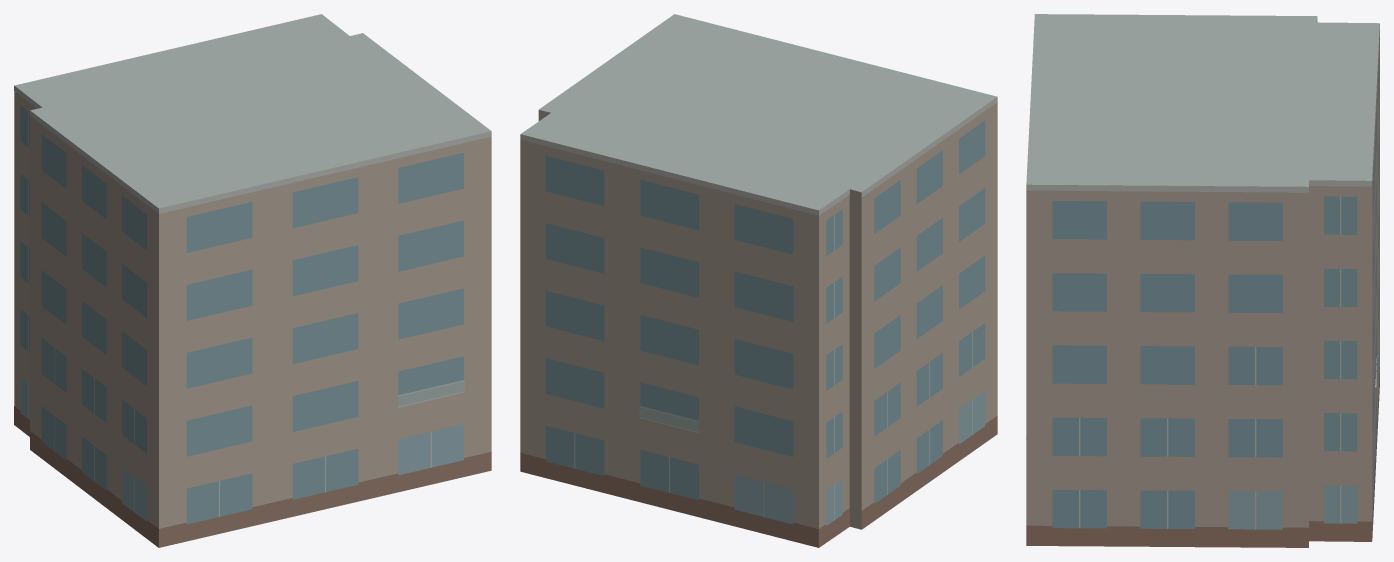
File: survey-upis-33036839.glb
The picture shows the model from 3 angles, left to right: view 1: azimuth 30°, elevation 25°; view 2: azimuth 150°, elevation 25°; view 3: azimuth 270°, elevation 25°; orthographic projection. The views are drawn at different scales.
Parts seen in each view (by area): view 1: survey-upis-33036839.tmp; view 2: survey-upis-33036839.tmp; view 3: survey-upis-33036839.tmp.
Boxes of the visible parts, bbox=[...] form: survey-upis-33036839.tmp: bbox=[14, 14, 491, 547]; survey-upis-33036839.tmp: bbox=[520, 14, 997, 547]; survey-upis-33036839.tmp: bbox=[1026, 14, 1379, 547].
Size of the model in its own units: 15.56 by 15.15 by 13.46.
